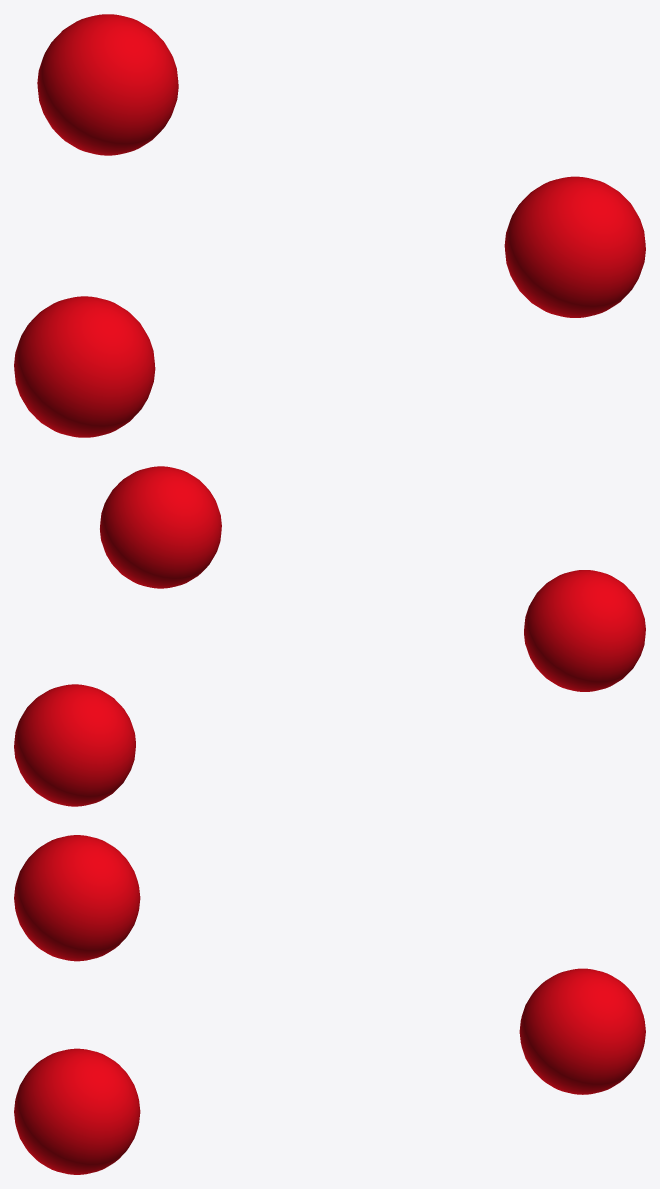
File: LV_GammaTest.gltf
The picture shows the model from 3 angles, top to bottom: view 1: azimuth 30°, elevation 25°; view 2: azimuth 150°, elevation 25°; view 3: azimuth 270°, elevation 25°; orthographic projection. The views are drawn at different scales.
Parts seen in each view (by area): view 1: Sphere, Sphere.001, Sphere.002; view 2: Sphere, Sphere.002, Sphere.001; view 3: Sphere.001, Sphere, Sphere.002.
Boxes of the visible parts, <box> form: Sphere: <box>14,296,155,437</box>; Sphere.001: <box>37,14,178,155</box>; Sphere.002: <box>504,176,645,317</box>; Sphere: <box>524,570,645,691</box>; Sphere.002: <box>100,466,221,588</box>; Sphere.001: <box>14,684,135,806</box>; Sphere.001: <box>519,968,645,1094</box>; Sphere: <box>14,835,140,961</box>; Sphere.002: <box>14,1048,140,1174</box>.
Size of what is drawn, in the model's own units: 10 by 2 by 10.
